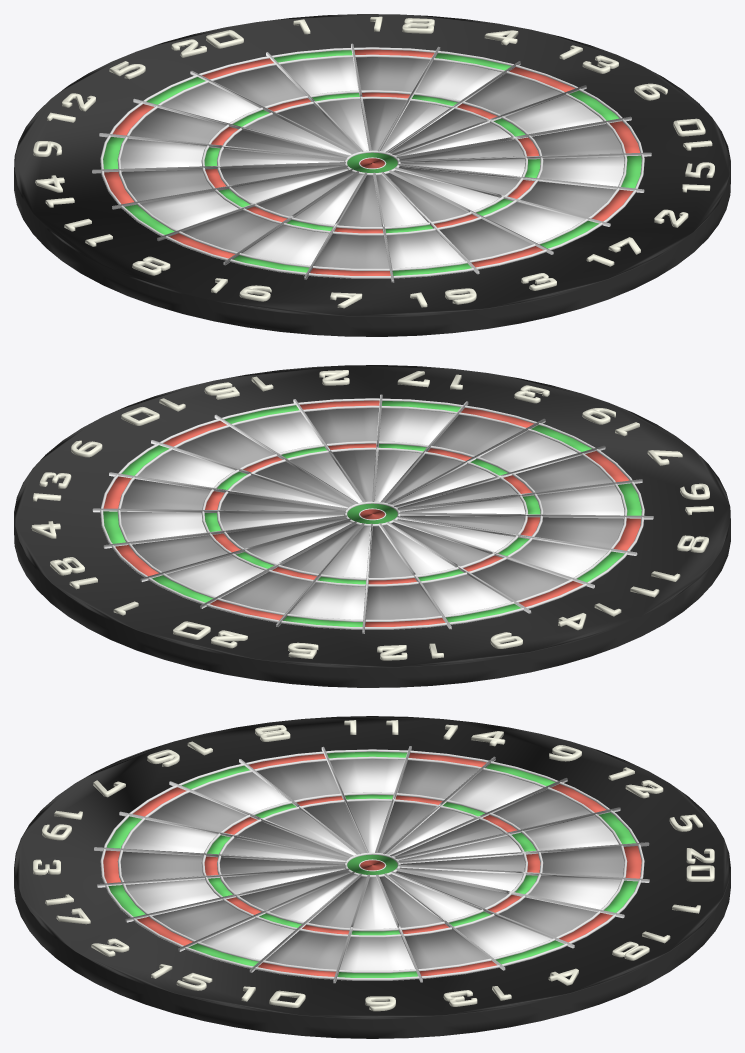
File: dartboard.dae
3 views of the same model, one above another, from view 1: azimuth 30°, elevation 25°; view 2: azimuth 150°, elevation 25°; view 3: azimuth 270°, elevation 25° (orthographic).
Parts seen in each view (by area): view 1: dart_tarcza_obj; view 2: dart_tarcza_obj; view 3: dart_tarcza_obj.
Part boxes in pixels (bbox=[...]): dart_tarcza_obj: bbox=[14, 14, 730, 336]; dart_tarcza_obj: bbox=[14, 365, 730, 687]; dart_tarcza_obj: bbox=[14, 716, 730, 1038].
Size of the model in its own units: 9.9 by 9.9 by 0.3684.
